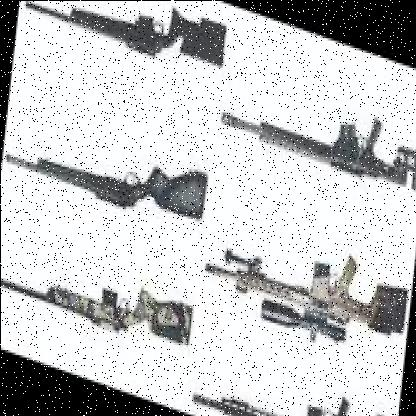rifle: (204, 225, 408, 347), (3, 116, 206, 238), (220, 76, 416, 198), (0, 240, 194, 362), (23, 0, 228, 82), (192, 354, 396, 416)
